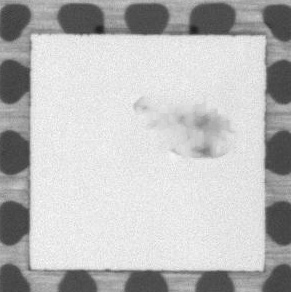DIE_INK: (128, 90, 233, 159)
